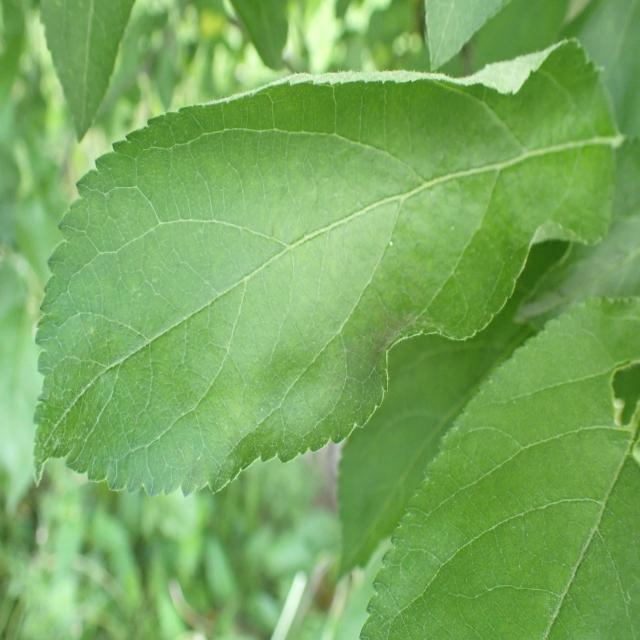scab: (30, 110, 592, 439)
